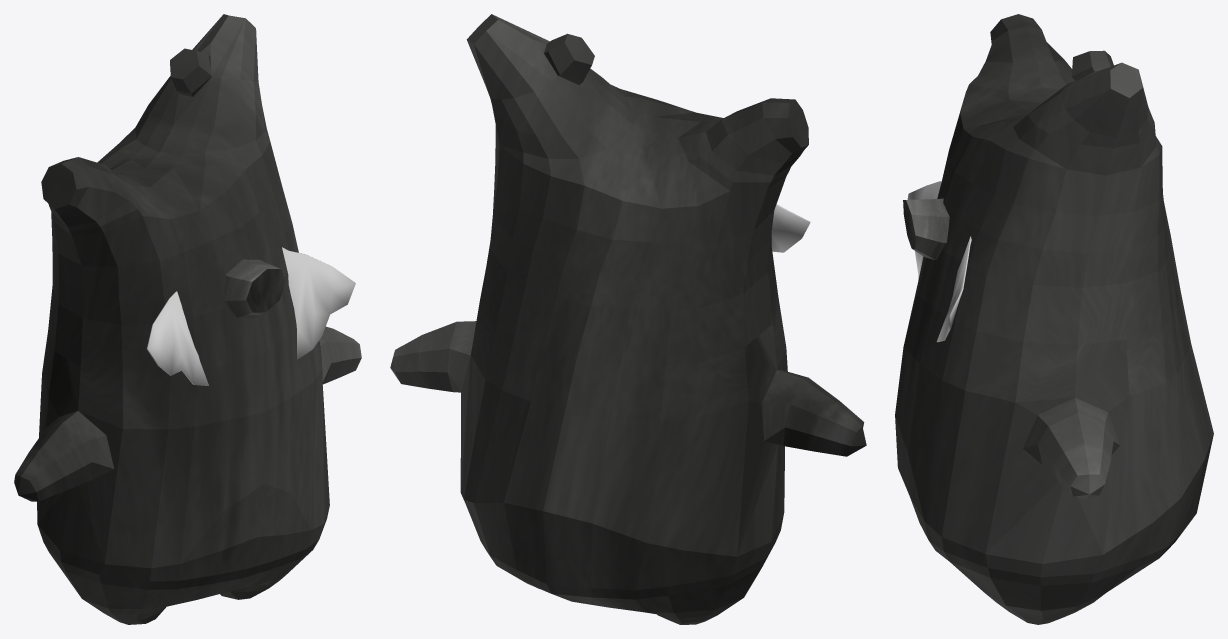
The model's file is frame_0039.obj.
3 views of the same model, side by side, from view 1: azimuth 30°, elevation 25°; view 2: azimuth 150°, elevation 25°; view 3: azimuth 270°, elevation 25° (orthographic). The views are drawn at different scales.
Parts seen in each view (by area): view 1: korok, leaf, nose; view 2: korok, leaf; view 3: korok, nose, leaf.
Boxes of the visible parts, x1,y1,x2,y2 form: korok: (14,14,361,624); leaf: (146,247,355,385); nose: (223,259,285,317); korok: (390,14,866,624); leaf: (771,204,810,252); korok: (895,14,1213,624); nose: (903,198,949,259); leaf: (907,181,971,342).
Size of the model in its own units: 1.71 by 2.3 by 1.16.
